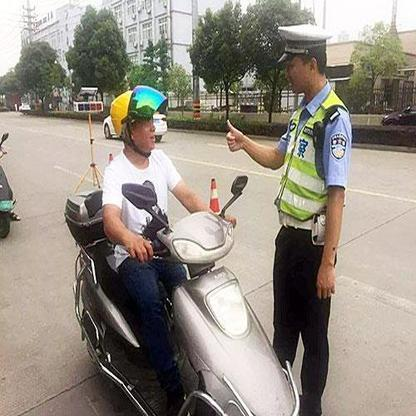target: (63, 83, 301, 412)
